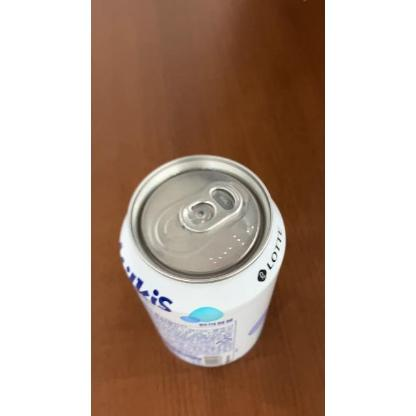Can: (115, 153, 288, 369)
